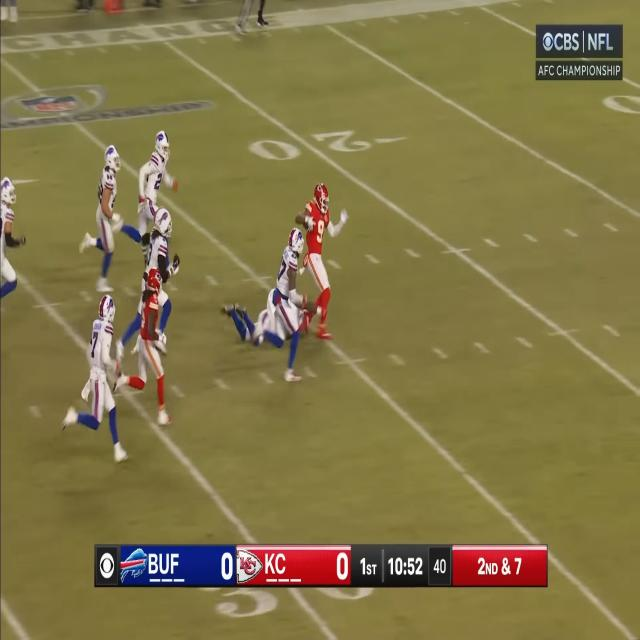Ball: (302, 215, 316, 232)
